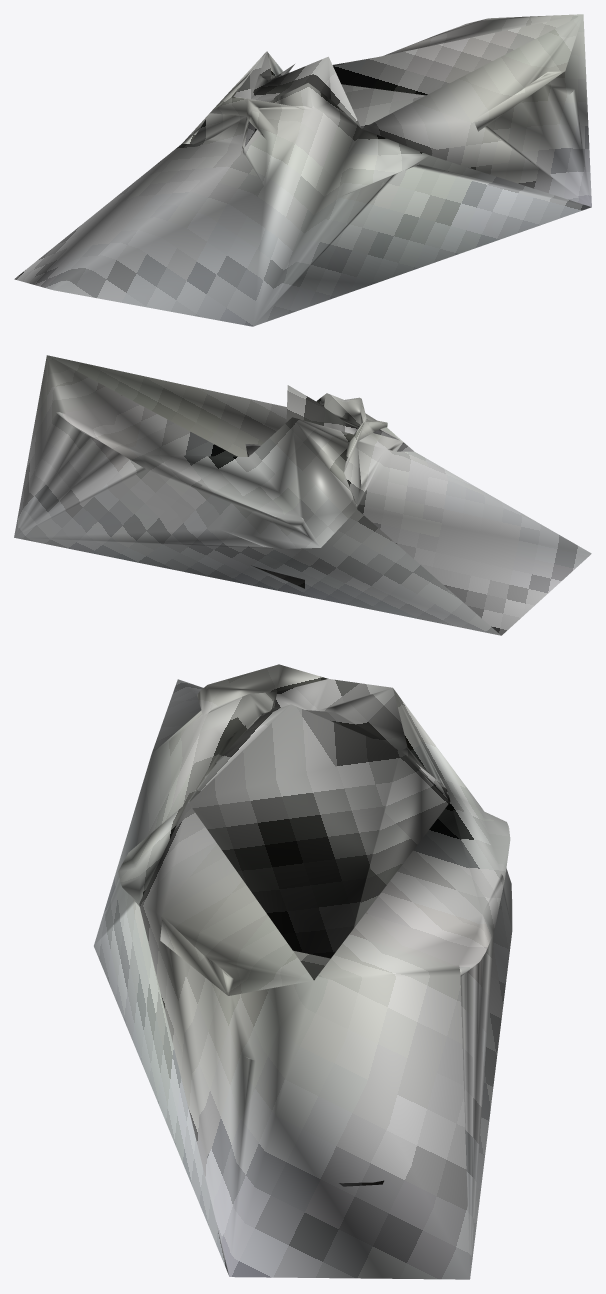
The model's file is Womens_Canvas_Bahama_in_White_UfZPHGQpvz0-low.glb.
3 renders of one model, top to bottom at view 1: azimuth 30°, elevation 25°; view 2: azimuth 150°, elevation 25°; view 3: azimuth 270°, elevation 25°, orthographic. The views are drawn at different scales.
Parts seen in each view (by area): view 1: Womens_Canvas_Bahama_in_White_UfZPHGQpvz0; view 2: Womens_Canvas_Bahama_in_White_UfZPHGQpvz0; view 3: Womens_Canvas_Bahama_in_White_UfZPHGQpvz0.
Part boxes in pixels (x1,y1,x2,y2): Womens_Canvas_Bahama_in_White_UfZPHGQpvz0: (14, 14, 591, 326); Womens_Canvas_Bahama_in_White_UfZPHGQpvz0: (14, 355, 591, 635); Womens_Canvas_Bahama_in_White_UfZPHGQpvz0: (94, 664, 512, 1279).
Bounding box in the file's own units: 0.2293 × 0.0763 × 0.0811.
Materials: 1 (1 with a texture image).
